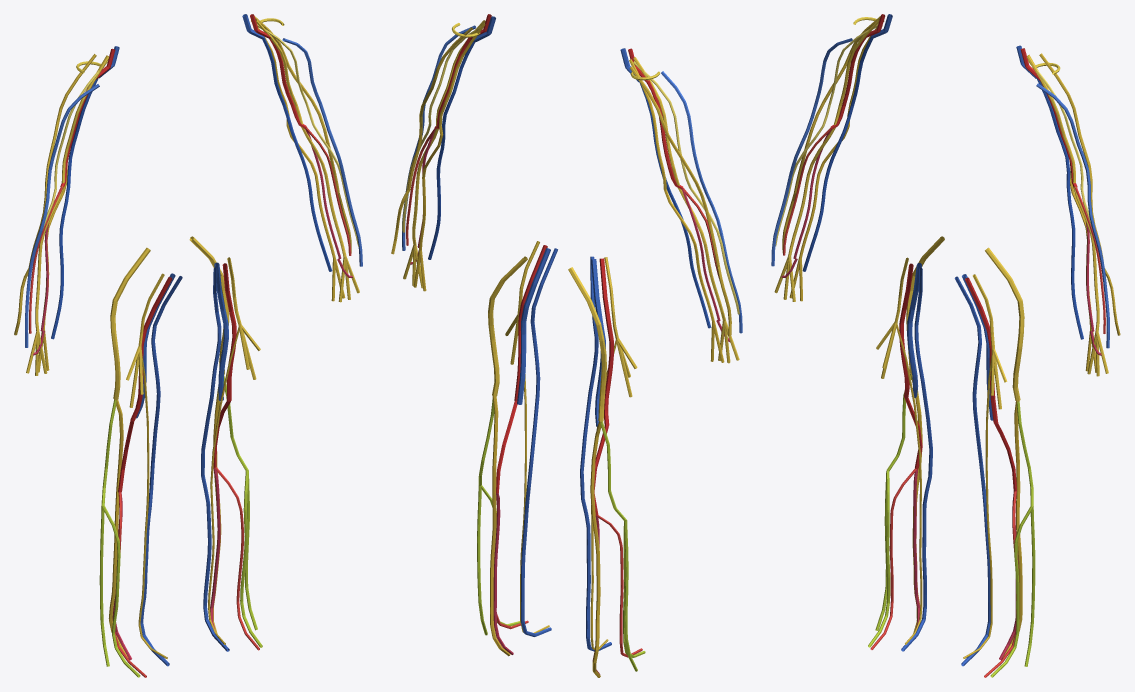
The model's file is anatomyverse-limbsupply.glb.
3 views of the same model, side by side, from view 1: azimuth 30°, elevation 25°; view 2: azimuth 150°, elevation 25°; view 3: azimuth 330°, elevation 25° (orthographic).
Visible parts, largest first — view 1: great_saphenous_vein_L, common_fibular_nerve_R, great_saphenous_vein_R, common_fibular_nerve_L, median_nerve_R, median_nerve_L, cephalic_vein_R, basilic_vein_R, cephalic_vein_L, tibial_nerve_R, basilic_vein_L, sciatic_nerve_R (+13 smaller); view 2: great_saphenous_vein_L, great_saphenous_vein_R, median_nerve_R, ulnar_nerve_R, common_fibular_nerve_R, tibial_nerve_R, tibial_nerve_L, ulnar_nerve_L, radial_nerve_R, common_fibular_nerve_L, median_nerve_L, cephalic_vein_R (+17 smaller); view 3: great_saphenous_vein_R, common_fibular_nerve_L, great_saphenous_vein_L, median_nerve_L, median_nerve_R, common_fibular_nerve_R, cephalic_vein_L, basilic_vein_L, cephalic_vein_R, basilic_vein_R, sciatic_nerve_L, tibial_nerve_L (+14 smaller).
Boxes of the visible parts, x1,y1,x2,y2 form: great_saphenous_vein_L: (201, 267, 229, 651); common_fibular_nerve_R: (99, 399, 140, 677); great_saphenous_vein_R: (140, 276, 182, 666); common_fibular_nerve_L: (223, 375, 262, 647); median_nerve_R: (26, 56, 108, 375); median_nerve_L: (256, 19, 359, 302); cephalic_vein_R: (25, 84, 99, 347); basilic_vein_R: (51, 78, 98, 339); cephalic_vein_L: (282, 38, 362, 266); tibial_nerve_R: (108, 400, 128, 657); basilic_vein_L: (262, 37, 332, 271); sciatic_nerve_R: (110, 247, 150, 399); great_saphenous_vein_L: (521, 248, 557, 636); great_saphenous_vein_R: (580, 256, 611, 651); median_nerve_R: (633, 57, 739, 363); ulnar_nerve_R: (629, 59, 724, 362); common_fibular_nerve_R: (600, 421, 645, 671); tibial_nerve_R: (590, 421, 601, 677); tibial_nerve_L: (490, 396, 510, 656); ulnar_nerve_L: (413, 23, 485, 291); radial_nerve_R: (630, 66, 731, 336); common_fibular_nerve_L: (477, 398, 520, 635); median_nerve_L: (403, 20, 485, 288); cephalic_vein_R: (661, 71, 742, 333); great_saphenous_vein_R: (901, 267, 932, 651); common_fibular_nerve_L: (990, 401, 1035, 677); great_saphenous_vein_L: (954, 276, 990, 666); median_nerve_L: (1026, 56, 1108, 376); median_nerve_R: (774, 19, 879, 301); common_fibular_nerve_R: (868, 374, 911, 647); cephalic_vein_L: (1036, 83, 1109, 348); basilic_vein_L: (1036, 78, 1083, 339); cephalic_vein_R: (771, 38, 852, 266); basilic_vein_R: (802, 36, 872, 271); sciatic_nerve_L: (985, 247, 1024, 401); tibial_nerve_L: (1003, 401, 1022, 657).
Size of the model in its own units: 0.7353 by 1.3 by 0.156.
